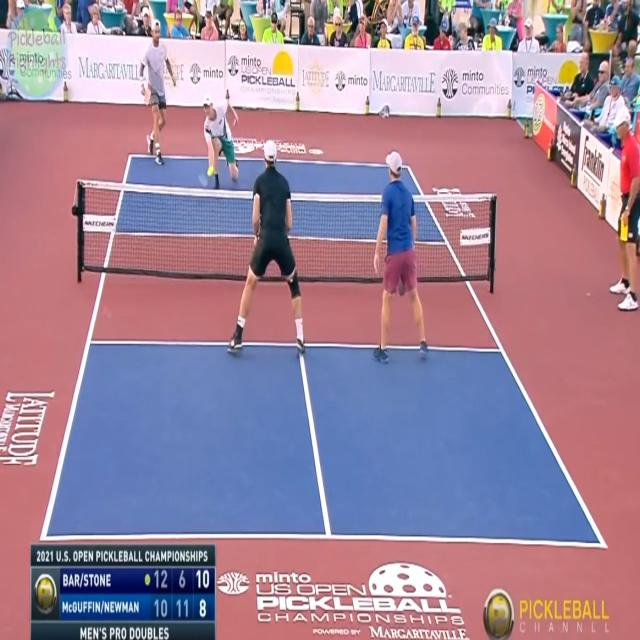Court: (48, 151, 603, 540)
ball: (203, 154, 221, 187)
